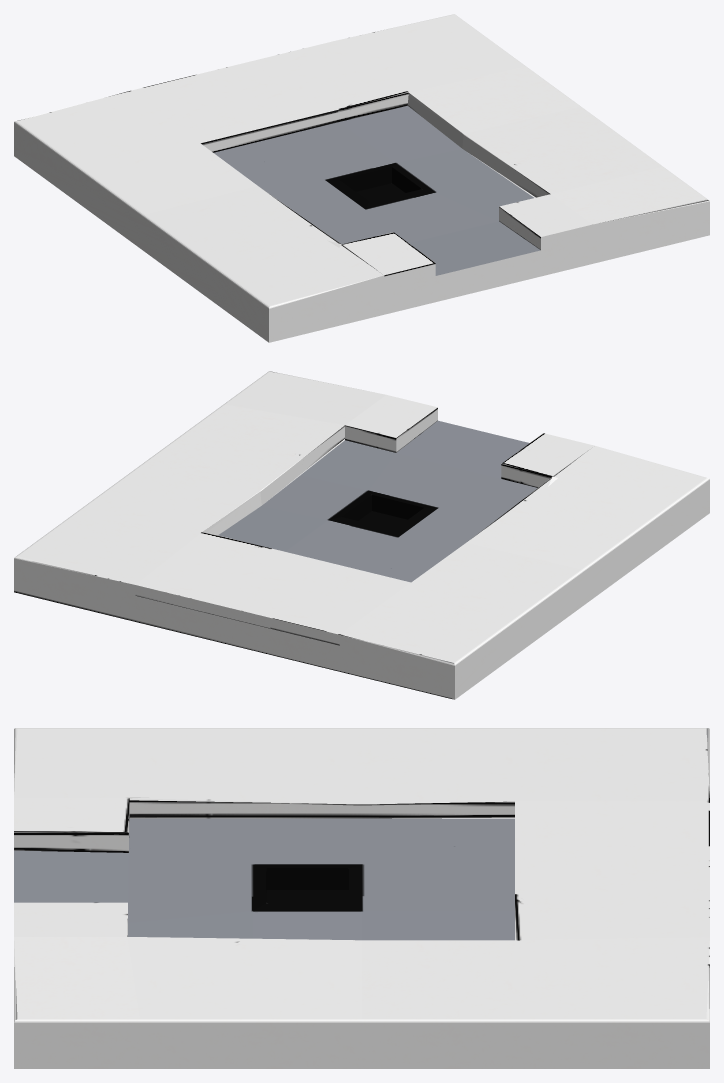
Rendered from crossroadend.fbx.
3 views of the same model, one above another, from view 1: azimuth 30°, elevation 25°; view 2: azimuth 150°, elevation 25°; view 3: azimuth 270°, elevation 25° (orthographic). The views are drawn at different scales.
Visible parts, largest first — view 1: Cube.009; view 2: Cube.009; view 3: Cube.009.
Boxes of the visible parts, box(x1,y1,x2,y2) form: Cube.009: box(14, 14, 709, 342); Cube.009: box(14, 371, 709, 699); Cube.009: box(14, 728, 709, 1068).
Bounding box in the file's own units: 195 × 16.7 × 196.
